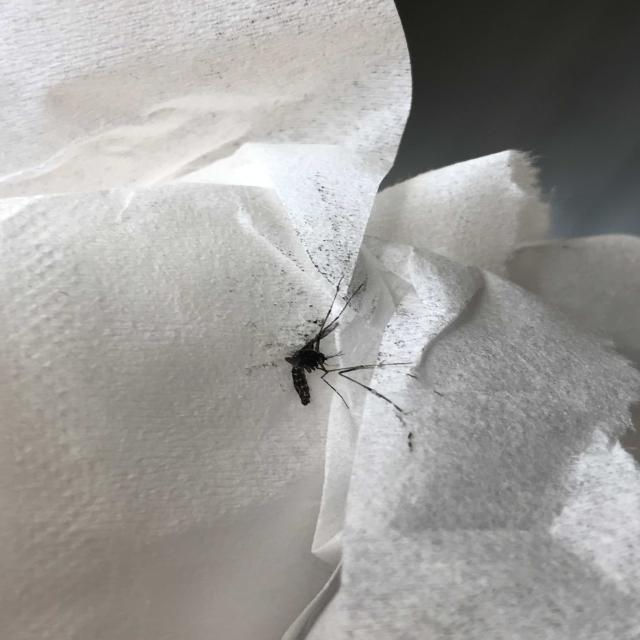albopictus: (244, 234, 445, 462)
